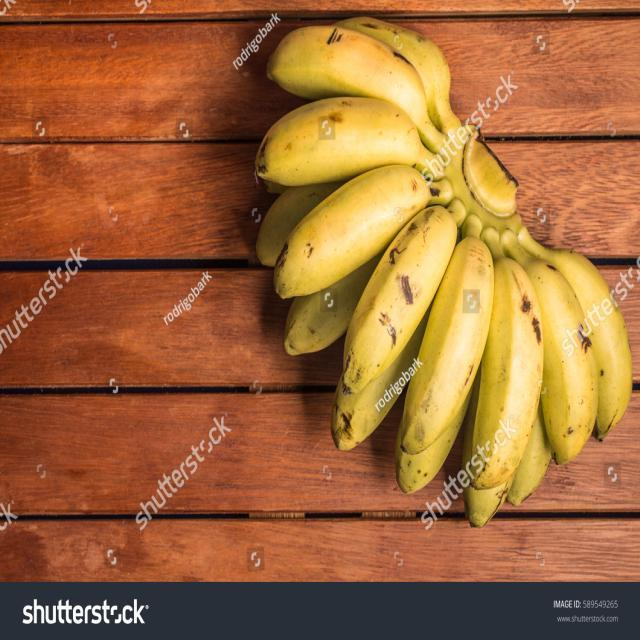Banana: (245, 6, 634, 534)
